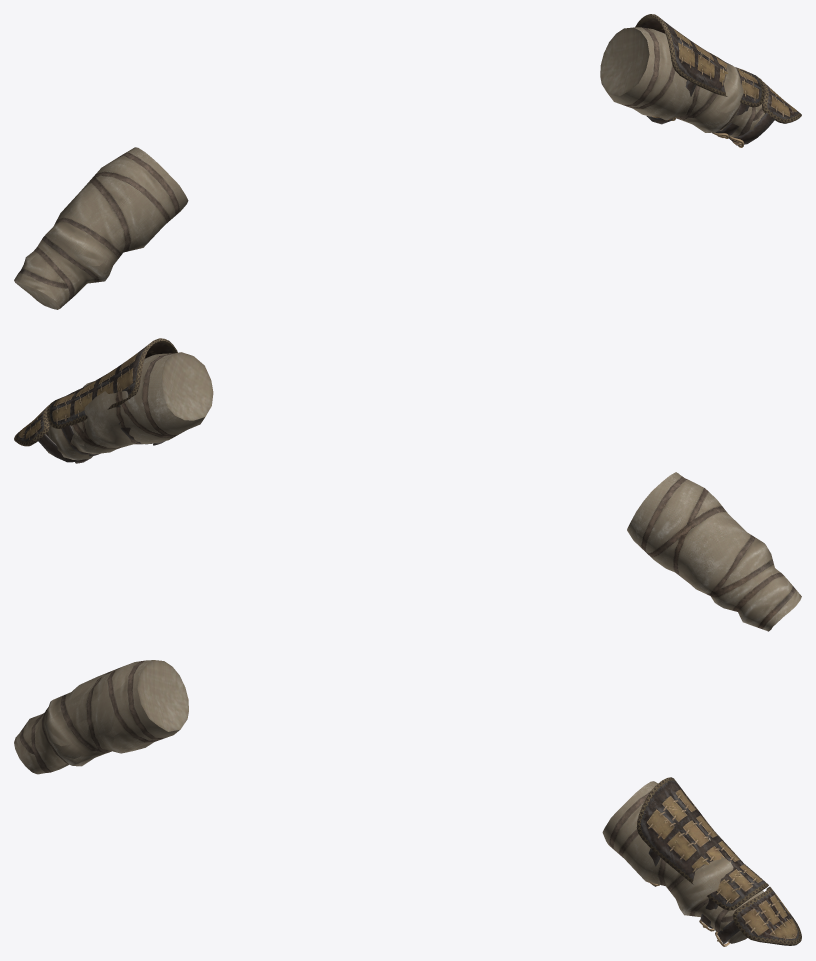
Rendered from dunland_wulf_bracer_medium_e.fbx.
3 views of the same model, one above another, from view 1: azimuth 30°, elevation 25°; view 2: azimuth 150°, elevation 25°; view 3: azimuth 330°, elevation 25° (orthographic).
Parts seen in each view (by area): view 1: dunland_wulf_bracer_medium_e; view 2: dunland_wulf_bracer_medium_e; view 3: dunland_wulf_bracer_medium_e.
Boxes of the visible parts, x1,y1,x2,y2 form: dunland_wulf_bracer_medium_e: (14, 14, 801, 309); dunland_wulf_bracer_medium_e: (14, 338, 801, 631); dunland_wulf_bracer_medium_e: (14, 660, 801, 946).
Size of the model in its own units: 1.44 by 0.1438 by 0.2511.
Materials: 1 (1 with a texture image).
